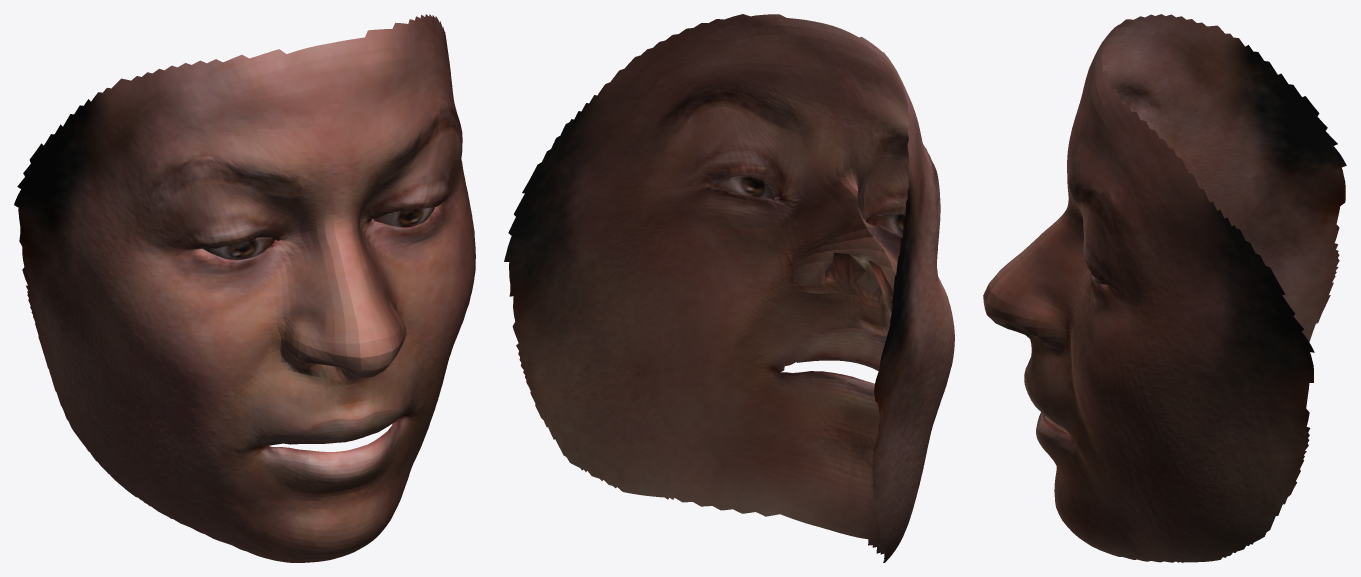
Rendered from disgust1_mesh.obj.
The picture shows the model from 3 angles, left to right: view 1: azimuth 30°, elevation 25°; view 2: azimuth 150°, elevation 25°; view 3: azimuth 270°, elevation 25°; orthographic projection. The views are drawn at different scales.
Bounding box in the file's own units: 1.37 × 1.69 × 1.14.
